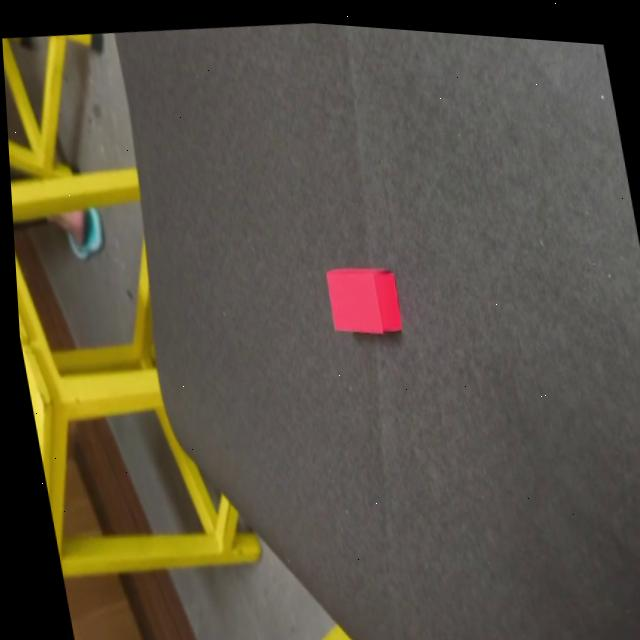red block: (323, 260, 405, 342)
